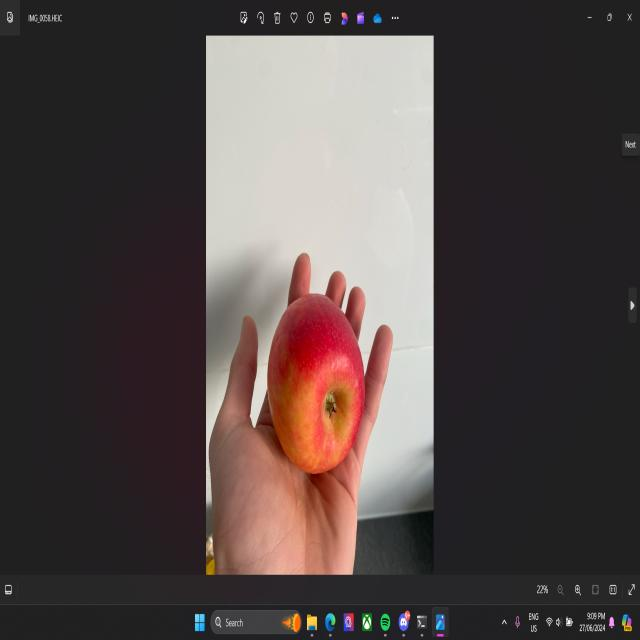Apple: (268, 293, 365, 473)
